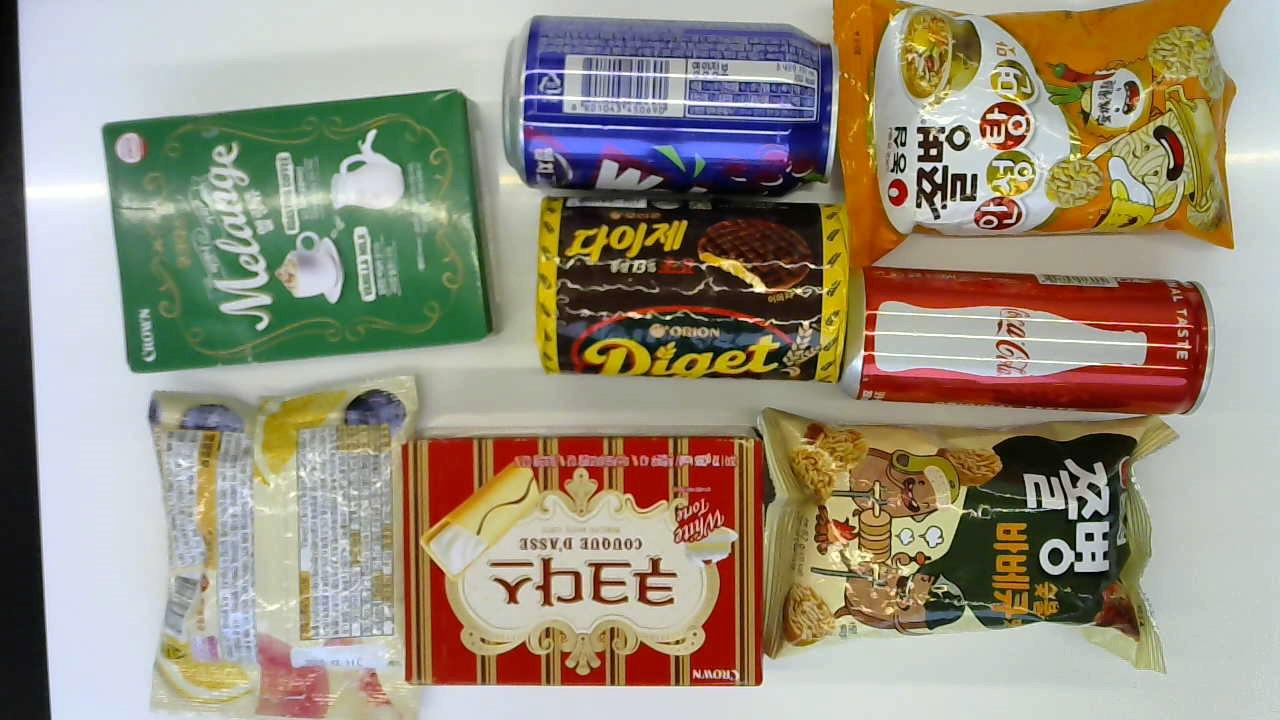coke: (841, 249, 1224, 413)
couque_coffee: (98, 84, 500, 390)
couque_white: (403, 409, 771, 695)
diget_choco: (532, 199, 849, 372)
gumi_gumi: (141, 369, 424, 715)
jjolbyung_noodle: (824, 0, 1249, 249)
jjolbyung_ori: (747, 408, 1173, 673)
welchs: (494, 5, 836, 204)
